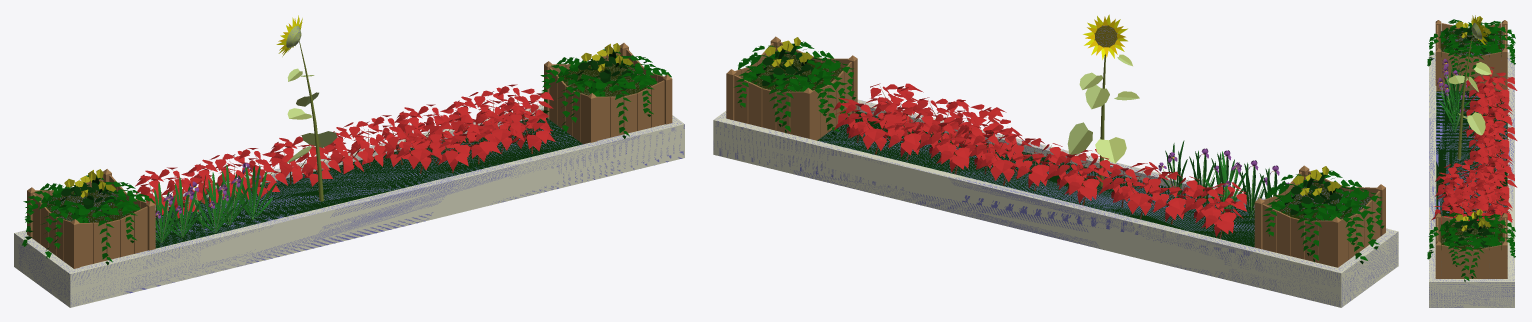
The picture shows the model from 3 angles, left to right: view 1: azimuth 30°, elevation 25°; view 2: azimuth 150°, elevation 25°; view 3: azimuth 270°, elevation 25°; orthographic projection. The views are drawn at different scales.
Visible parts, largest first — view 1: SketchUp (×2), slats (×6), Planter_Wood_Square (×2), planter_section (×2), Bamboo_Shoot; view 2: SketchUp (×3), slats (×6), Planter_Wood_Square (×2), planter_section (×2); view 3: SketchUp (×2), slats (×12), planter_section (×8), Planter_Wood_Square (×4), sunflower_leaf (×3), Bamboo_Shoot, Plant_Sunflower.
Part boxes in pixels (<box>): SketchUp (×2): <box>14,104,684,307</box>; slats (×6): <box>80,81,664,266</box>; Planter_Wood_Square (×2): <box>40,58,657,222</box>; planter_section (×2): <box>70,93,597,268</box>; Bamboo_Shoot: <box>299,40,323,201</box>; SketchUp (×3): <box>713,99,1398,307</box>; slats (×6): <box>734,76,1331,266</box>; Planter_Wood_Square (×2): <box>742,54,1371,220</box>; planter_section (×2): <box>803,87,1341,267</box>; SketchUp (×2): <box>1429,52,1514,307</box>; slats (×12): <box>1441,52,1501,278</box>; planter_section (×8): <box>1435,20,1507,278</box>; Planter_Wood_Square (×4): <box>1440,31,1502,278</box>; sunflower_leaf (×3): <box>1467,62,1491,135</box>; Bamboo_Shoot: <box>1457,33,1472,159</box>; Plant_Sunflower: <box>1471,22,1482,39</box>.
Bounding box in the file's own units: 232 × 38.07 × 73.42.
